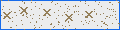x: (2, 10, 11, 21), (63, 13, 74, 22), (19, 5, 28, 15), (42, 8, 51, 16), (84, 11, 93, 19)
